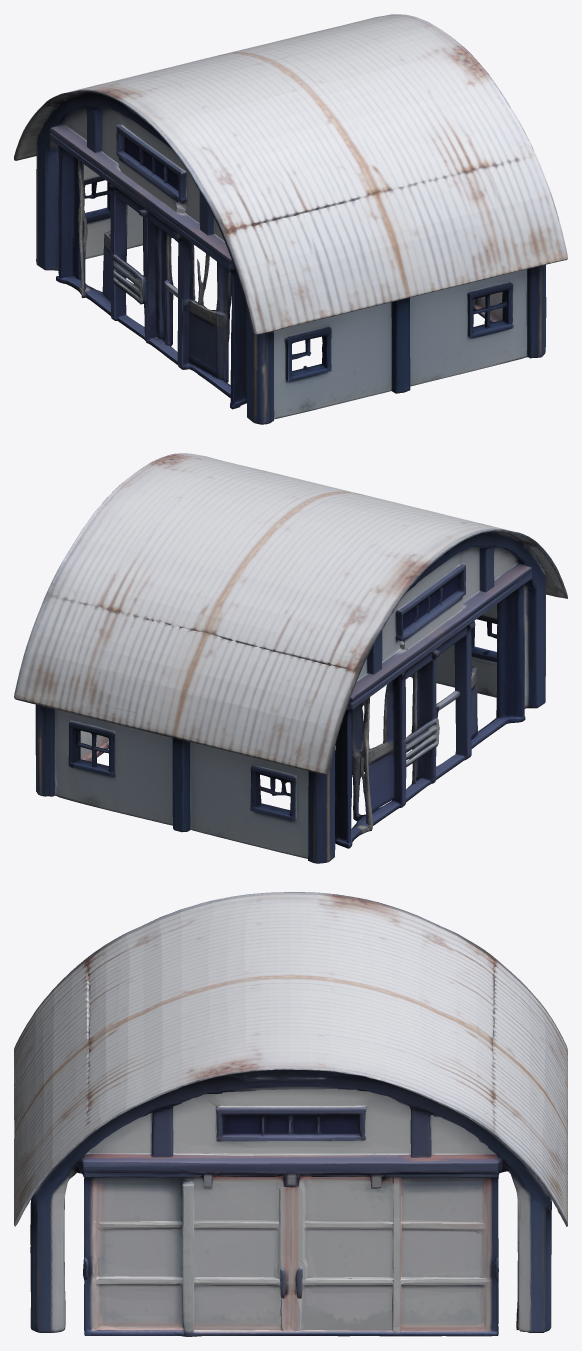
Rendered from hangar.glb.
3 views of the same model, one above another, from view 1: azimuth 30°, elevation 25°; view 2: azimuth 150°, elevation 25°; view 3: azimuth 270°, elevation 25° (orthographic). The views are drawn at different scales.
Parts seen in each view (by area): view 1: world; view 2: world; view 3: world.
Boxes of the visible parts, x1,y1,x2,y2 form: world: [14, 14, 567, 424]; world: [14, 453, 567, 863]; world: [14, 892, 567, 1336].
Bounding box in the file's own units: 0.5294 × 0.3858 × 0.7006.
Materials: 1 (1 with a texture image).
